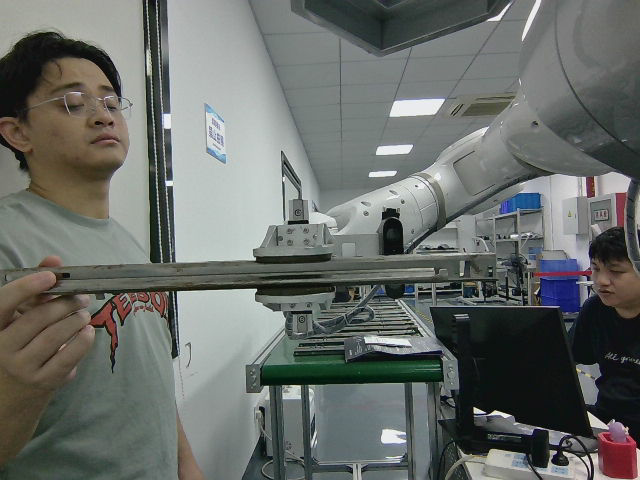down: (56, 252, 497, 295)
